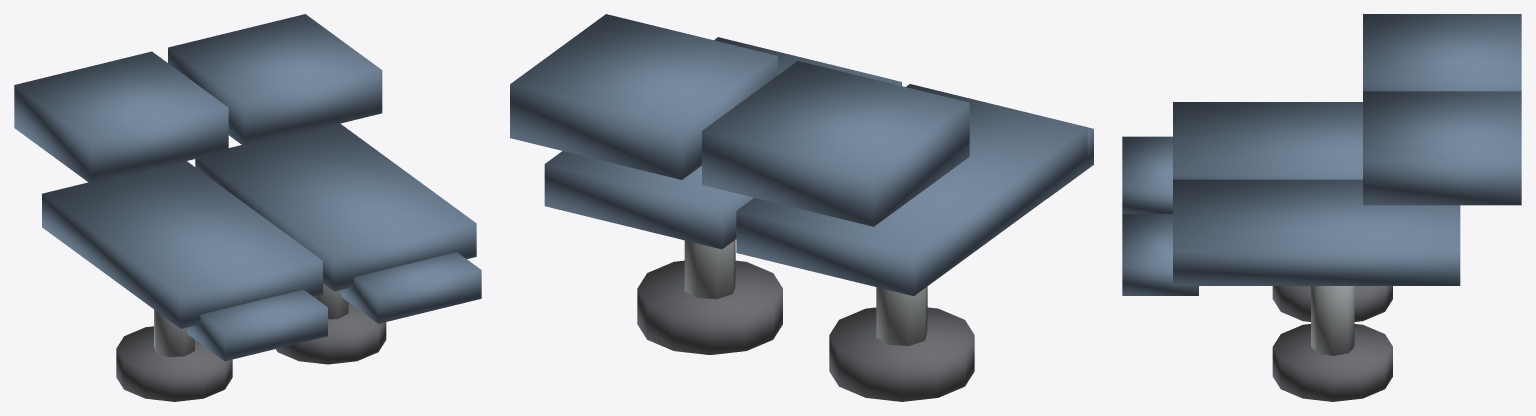
File: dentist_chair__cluster.glb
3 views of the same model, side by side, from view 1: azimuth 30°, elevation 25°; view 2: azimuth 150°, elevation 25°; view 3: azimuth 270°, elevation 25° (orthographic). The views are drawn at different scales.
Visible parts, largest first — view 1: world; view 2: world; view 3: world.
Part boxes in pixels (x1,y1,x2,y2): world: (14, 14, 481, 401); world: (510, 14, 1093, 401); world: (1122, 14, 1521, 401).
Size of the model in its own units: 1.29 by 1.01 by 1.46.
